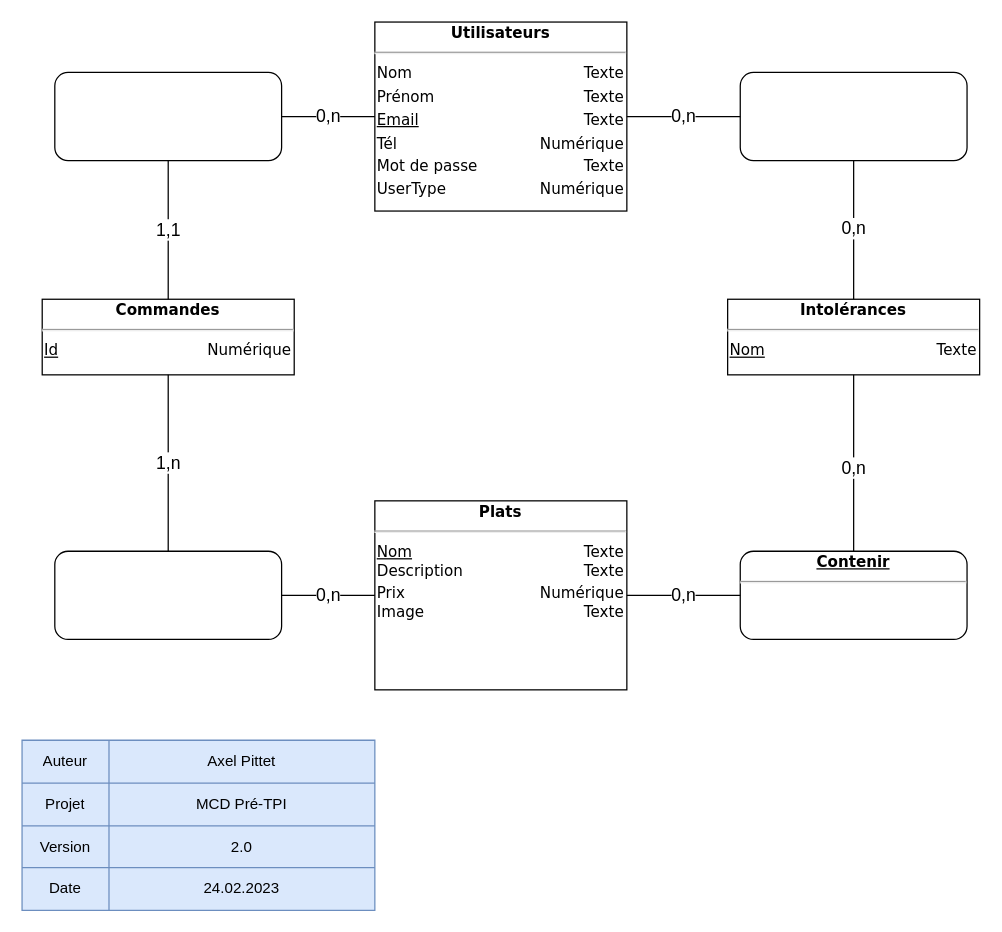
The diagram is 1002 pixels wide and 932 high, and some of its shapes have lost their labels. The shapes that lost their labels are listed below. From the top down, each one's box as (x1, y1, x2, y2) in pixels, then its label:
(54, 71, 282, 161): Créer
(739, 71, 967, 161): Sélectionner
(54, 550, 282, 639): Commandes Quantité Numérique
